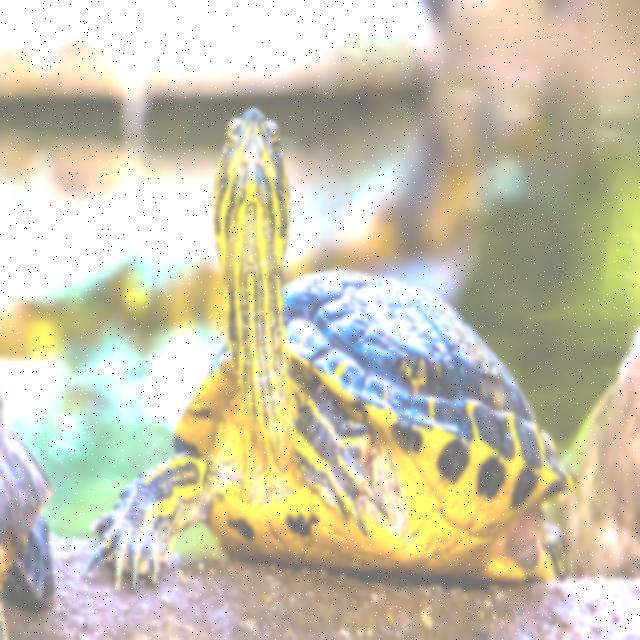tortoise: (96, 107, 566, 588)
